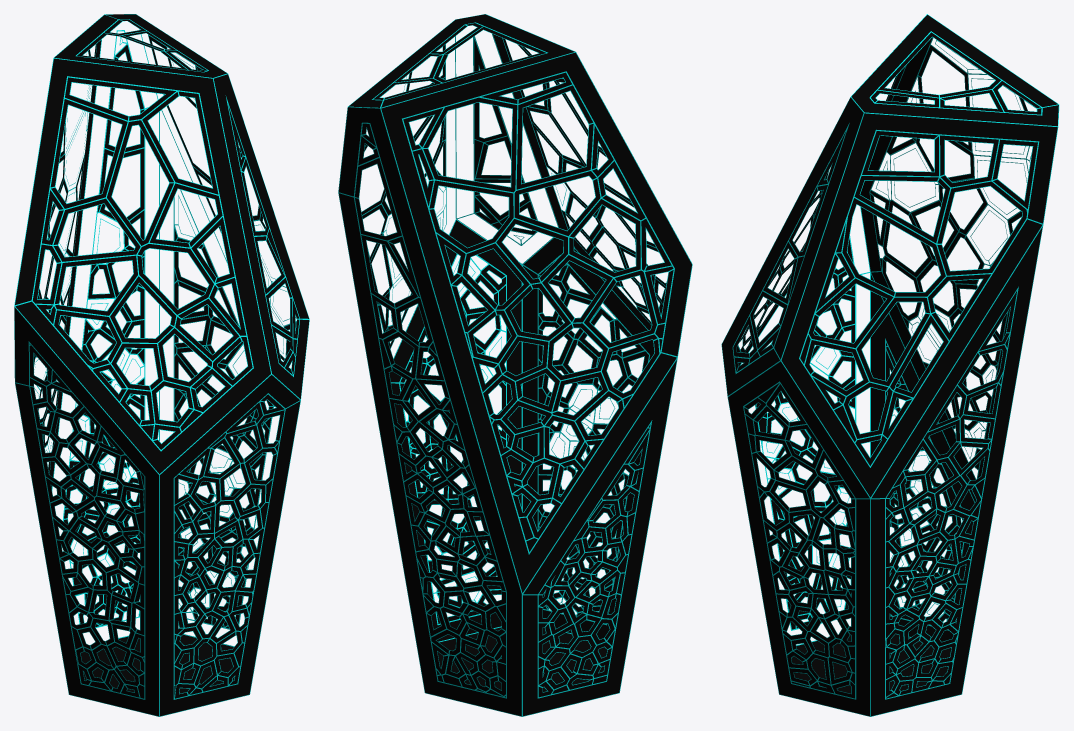
File: Crystal-605-6.fbx
The picture shows the model from 3 angles, left to right: view 1: azimuth 30°, elevation 25°; view 2: azimuth 150°, elevation 25°; view 3: azimuth 270°, elevation 25°; orthographic projection. The views are drawn at different scales.
Parts seen in each view (by area): view 1: subnet1; view 2: subnet1; view 3: subnet1.
Part boxes in pixels (left/top/right/bottom): subnet1: left=14, top=14, right=309, bottom=716; subnet1: left=338, top=14, right=692, bottom=716; subnet1: left=721, top=14, right=1059, bottom=716.
Size of the model in its own units: 124 by 259 by 128.
